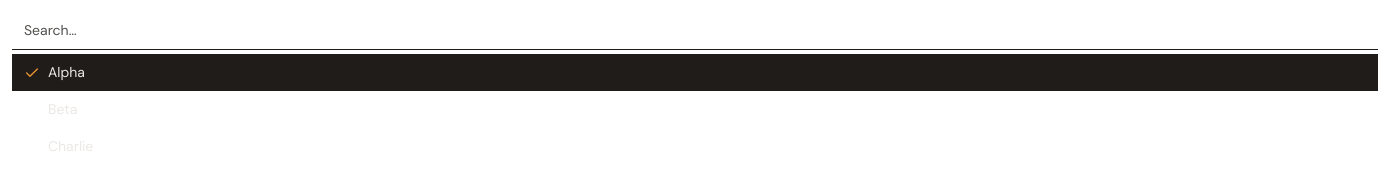
it: SearchablePicker › typing filters items by label
In the field with placeholder "Search…": (695, 31) [12,12,1378,50], type "al"
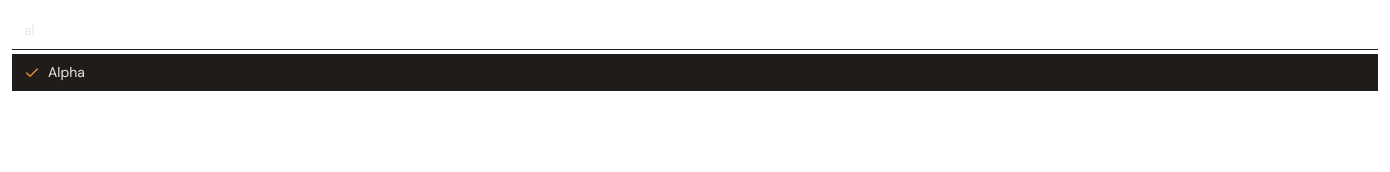
expect the text "Alpha" is shown: met, box [48,62,85,83]
expect the option "Beta" is gone: met
expect the option "Charlie" is gone: met
